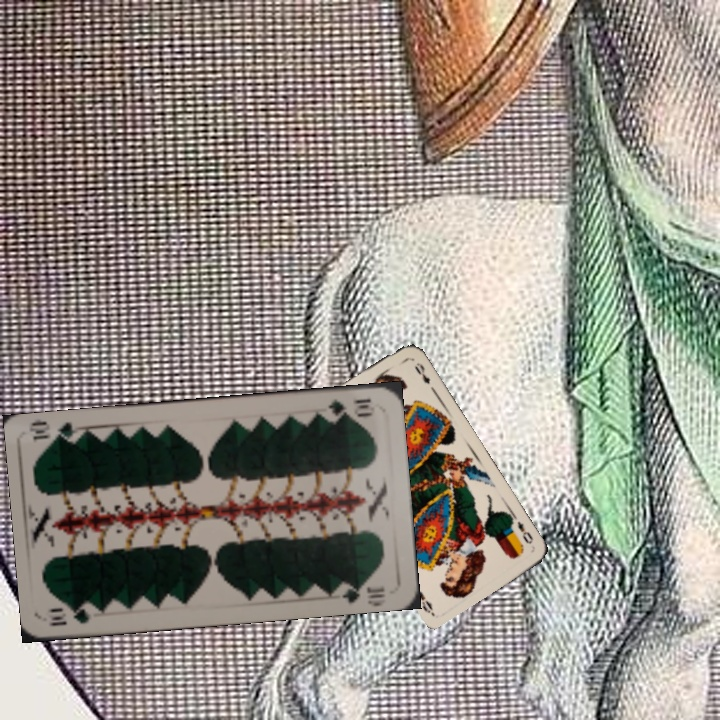EO: (513, 517, 536, 547)
G10: (324, 394, 375, 420), (45, 602, 92, 629)
